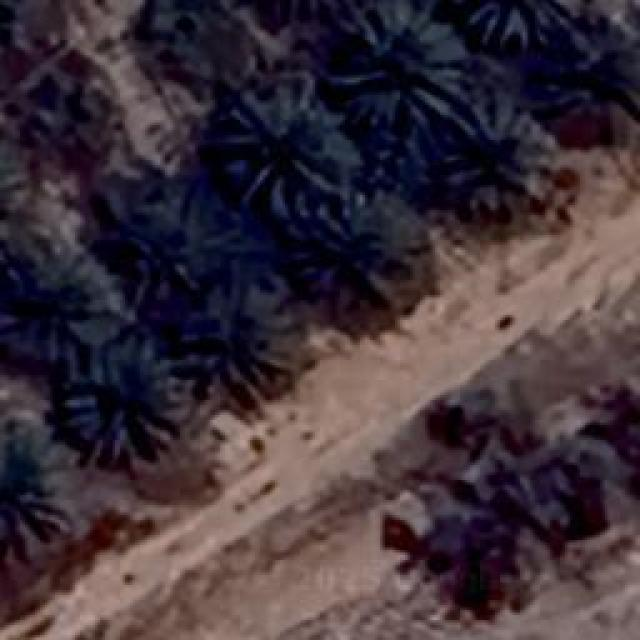PalmTree: (117, 24, 518, 87), (332, 2, 472, 130), (222, 82, 350, 218), (59, 340, 192, 465), (41, 87, 117, 300), (88, 175, 208, 293), (442, 100, 556, 210), (302, 206, 426, 292), (178, 286, 272, 384), (0, 430, 70, 560), (547, 38, 640, 133), (16, 84, 106, 148), (0, 142, 25, 258), (236, 0, 362, 17), (0, 0, 28, 66), (243, 0, 354, 11)
